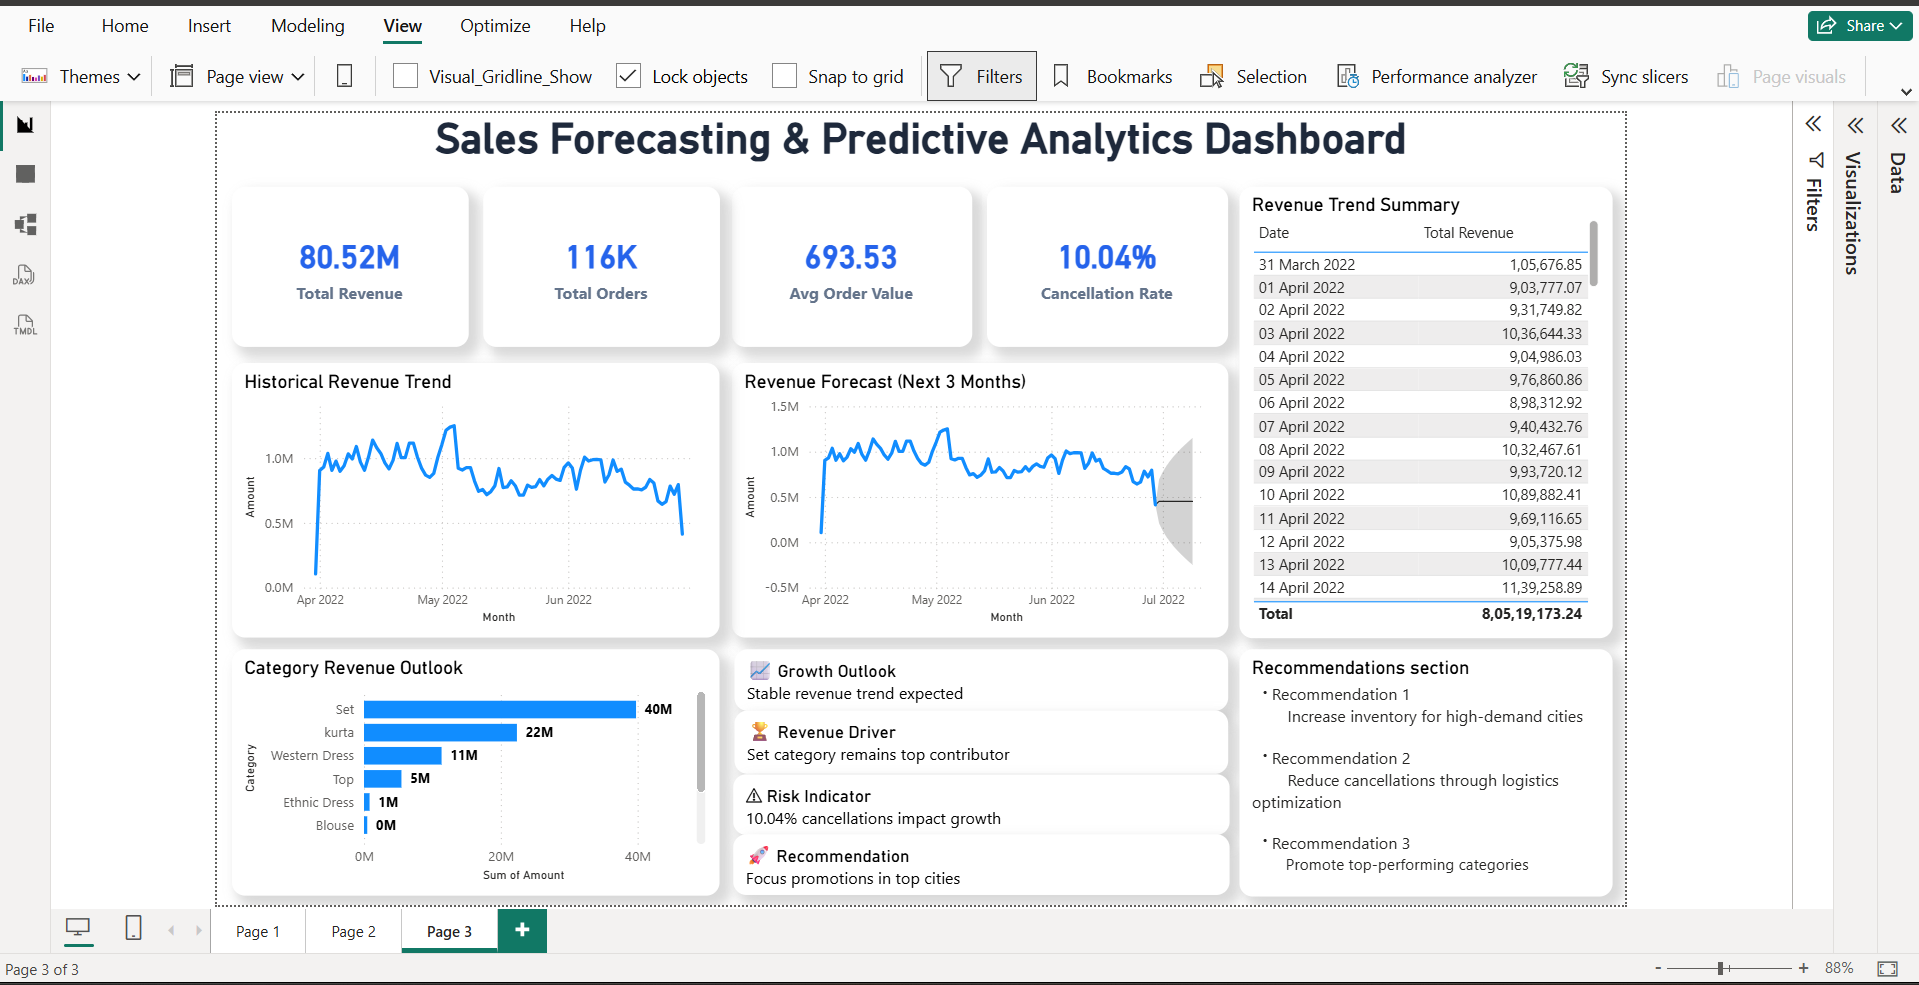

The page's visual inventory and layout, read from the dashboard file:
{"tool":"powerbi","page":{"name":"Page 3","canvas":[1280,720],"ordinal":2},"visuals":[{"type":"textbox","title":"Sales Forecasting & Predictive Analytics Dashboard","box":[0,0,1280,51.3],"z":0},{"type":"card","fields":{"Values":["E-commerce Sales Data.Total Revenue"]},"box":[13.7,67.2,215.4,145.5],"z":1000},{"type":"card","fields":{"Values":["E-commerce Sales Data.Avg Order Value"]},"box":[467.9,67.2,218.2,145.5],"z":2000},{"type":"card","fields":{"Values":["E-commerce Sales Data.Cancellation Rate"]},"box":[699.8,67.2,219.6,145.5],"z":3000},{"type":"card","fields":{"Values":["E-commerce Sales Data.Total Orders"]},"box":[241.5,67.2,215.4,145.5],"z":4000},{"type":"lineChart","title":"Revenue Forecast (Next 3 Months)","fields":{"Category":["E-commerce Sales Data.Date"],"Y":["Sum(E-commerce Sales Data.Amount)"]},"box":[467.9,227.8,451.5,249.7],"z":5000},{"type":"lineChart","title":"Historical Revenue Trend","fields":{"Category":["E-commerce Sales Data.Date"],"Y":["Sum(E-commerce Sales Data.Amount)"]},"box":[13.7,227.8,443.2,249.7],"z":6000},{"type":"tableEx","title":"Revenue Trend Summary","fields":{"Values":["E-commerce Sales Data.Date","E-commerce Sales Data.Total Revenue"]},"box":[929,67.2,338.9,410.3],"z":7000},{"type":"barChart","title":"Category Revenue Outlook","fields":{"Category":["E-commerce Sales Data.Category"],"Y":["Sum(E-commerce Sales Data.Amount)"]},"box":[13.7,487.1,443.2,223.7],"z":7001},{"type":"textbox","title":"📈 Growth Outlook","box":[470.7,487.1,448.7,56.3],"z":7002},{"type":"textbox","title":"🏆 Revenue Driver","box":[470.7,543.4,448.7,57.6],"z":7003},{"type":"textbox","title":"⚠ Risk Indicator","box":[469.3,601,451.5,54.9],"z":7004},{"type":"textbox","title":"🚀 Recommendation","box":[469.3,655.9,451.5,54.9],"z":7005},{"type":"textbox","title":"Recommendations section","box":[929,487.1,338.9,225],"z":7006}]}

Visuals, with their boxes on the page's 1280x720 design canvas (x1, y1, x2, y2). These are canvas units, not pixel positions in the 1919x985 screenshot, which may show the page scaled, cropped or inside an application window:
"Sales Forecasting & Predictive Analytics Dashboard" textbox: 0/0/1280/51
card - E-commerce Sales Data.Total Revenue: 14/67/229/213
card - E-commerce Sales Data.Avg Order Value: 468/67/686/213
card - E-commerce Sales Data.Cancellation Rate: 700/67/919/213
card - E-commerce Sales Data.Total Orders: 242/67/457/213
"Revenue Forecast (Next 3 Months)" lineChart: 468/228/919/478
"Historical Revenue Trend" lineChart: 14/228/457/478
"Revenue Trend Summary" tableEx: 929/67/1268/478
"Category Revenue Outlook" barChart: 14/487/457/711
"📈 Growth Outlook" textbox: 471/487/919/543
"🏆 Revenue Driver" textbox: 471/543/919/601
"⚠ Risk Indicator" textbox: 469/601/921/656
"🚀 Recommendation" textbox: 469/656/921/711
"Recommendations section" textbox: 929/487/1268/712
